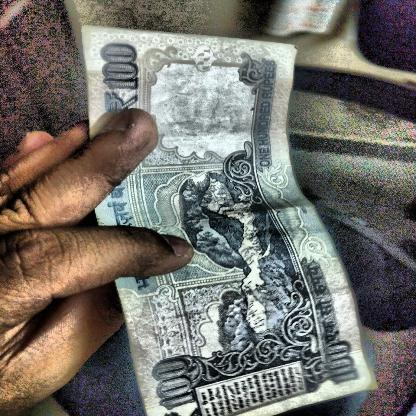Rs100: (98, 42, 143, 112)
